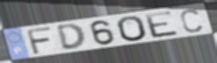6: (89, 19, 116, 46)
C: (179, 8, 204, 34)
D: (55, 23, 88, 51)
E: (143, 9, 181, 39)
F: (25, 26, 54, 56)
O: (115, 15, 149, 43)
